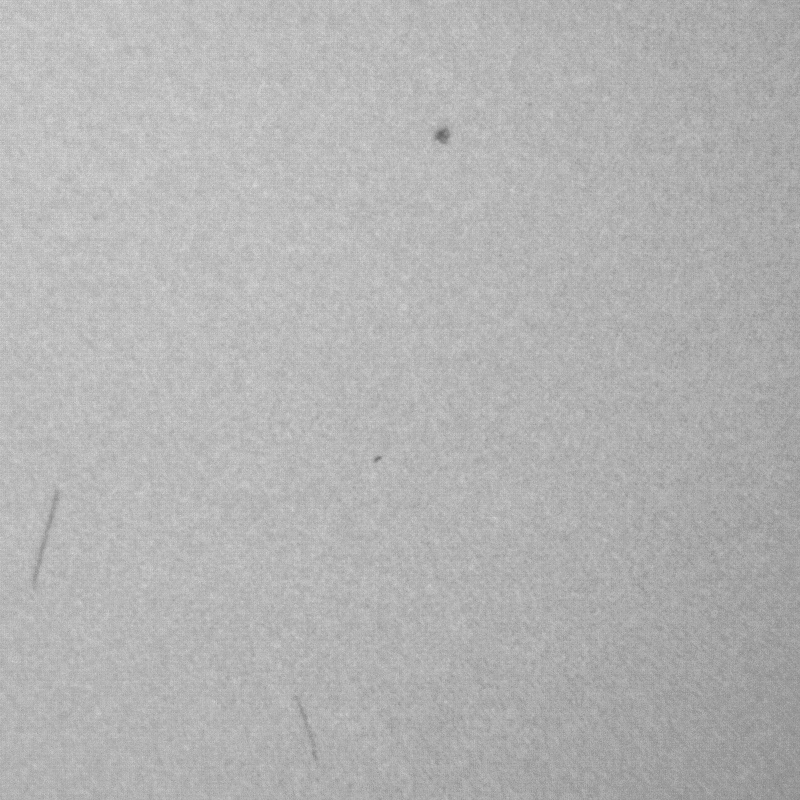defect: (26, 492, 63, 599), (297, 700, 322, 766), (430, 125, 452, 148), (375, 452, 387, 470)
